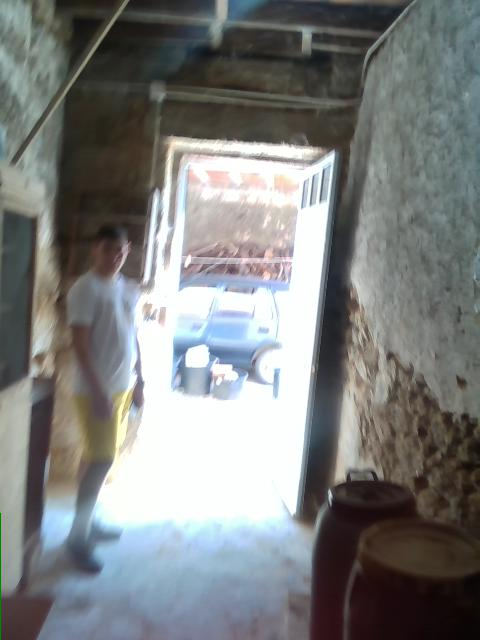open_door: (157, 141, 321, 501)
